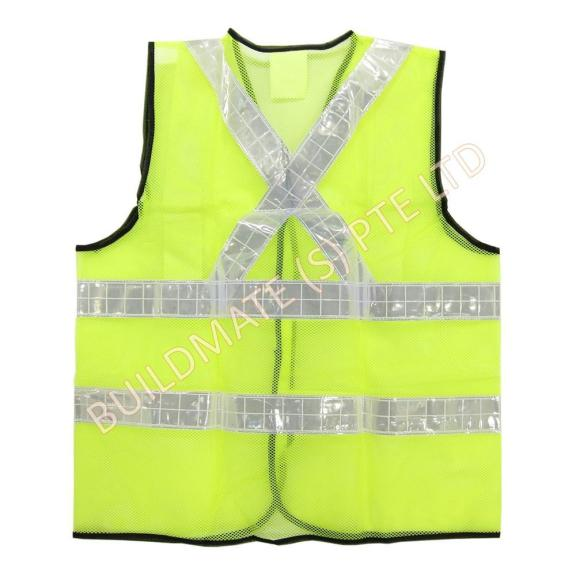safety_vest: (75, 22, 501, 547)
